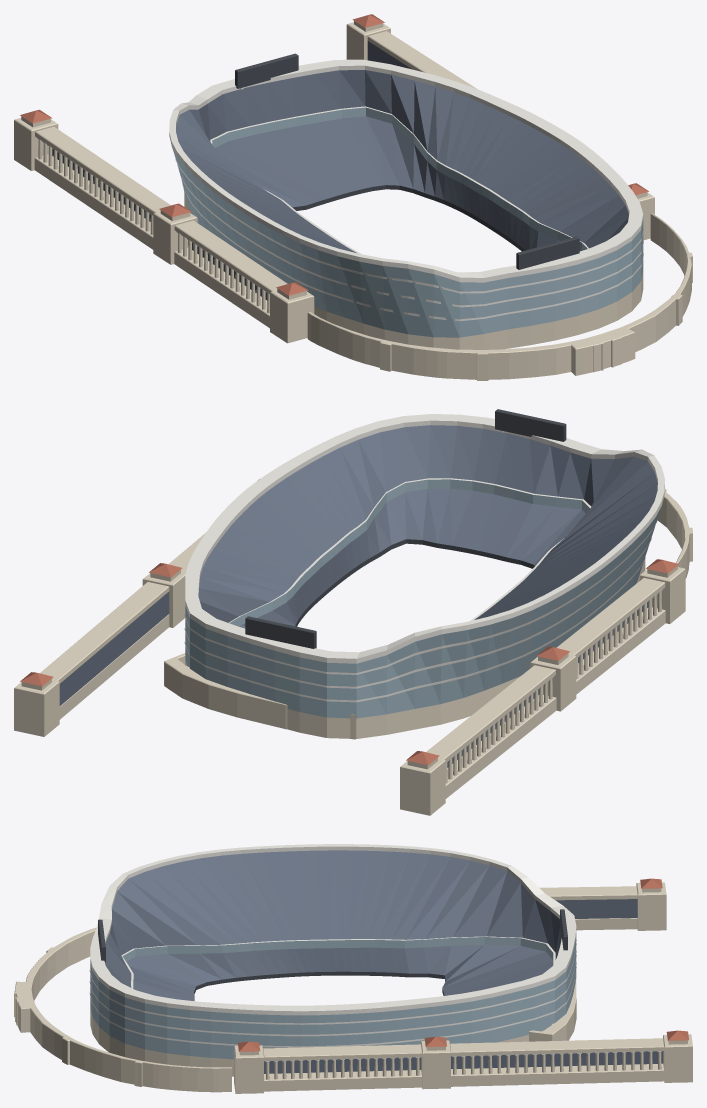
File: detail.glb
3 renders of one model, top to bottom at view 1: azimuth 30°, elevation 25°; view 2: azimuth 150°, elevation 25°; view 3: azimuth 270°, elevation 25°, orthographic. The views are drawn at different scales.
Parts seen in each view (by area): view 1: soldier-field; view 2: soldier-field; view 3: soldier-field.
Boxes of the visible parts, x1=… form: soldier-field: x1=14, y1=14, x2=692, y2=380; soldier-field: x1=14, y1=409, x2=692, y2=815; soldier-field: x1=14, y1=844, x2=692, y2=1093.
Size of the model in its own units: 218 by 49 by 356.
